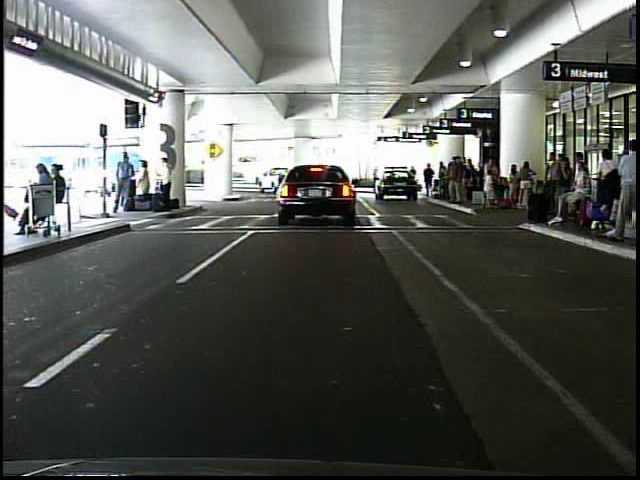person: (108, 150, 138, 218), (158, 155, 175, 212), (138, 159, 154, 209), (423, 162, 436, 198), (409, 162, 418, 192)
